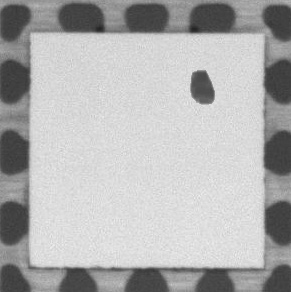DIE_INK: (187, 68, 215, 104)
